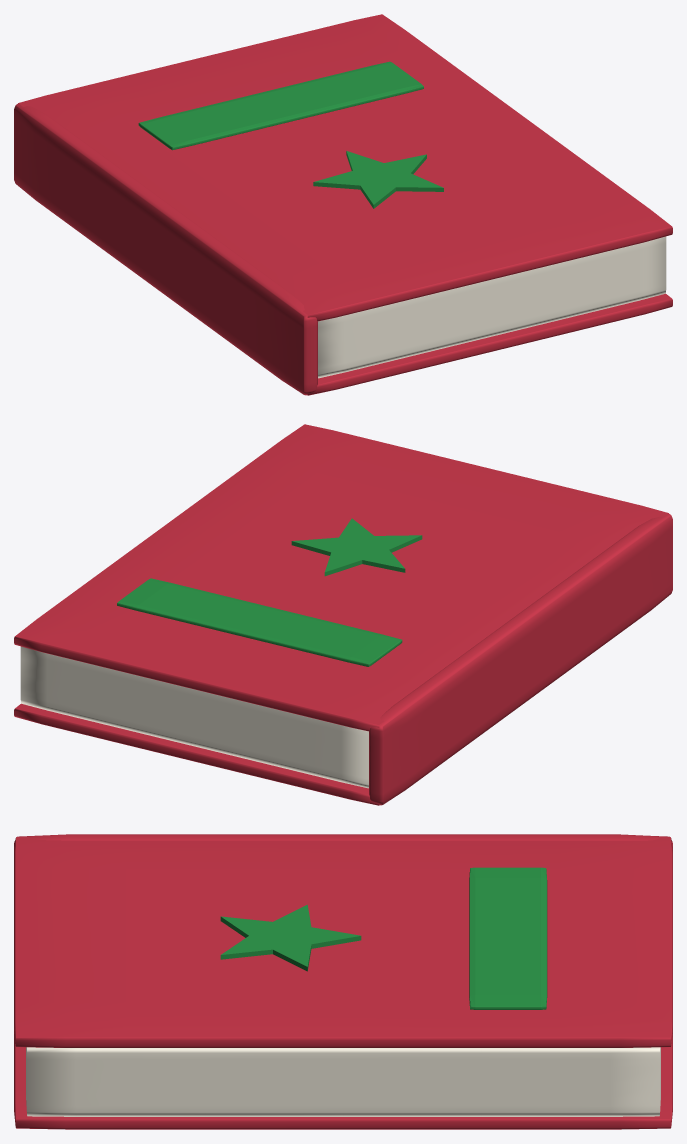
Rendered from DiceDashRuleBook.obj.
3 views of the same model, one above another, from view 1: azimuth 30°, elevation 25°; view 2: azimuth 150°, elevation 25°; view 3: azimuth 270°, elevation 25° (orthographic). The views are drawn at different scales.
Visible parts, largest first — view 1: Cover, Pages, Band; view 2: Cover, Pages, Band; view 3: Cover, Pages, Band.
Boxes of the visible parts, x1,y1,x2,y2 form: Cover: (14, 14, 672, 395); Pages: (318, 236, 666, 378); Band: (138, 61, 443, 208); Cover: (14, 424, 672, 805); Pages: (20, 646, 368, 788); Band: (117, 518, 422, 666); Cover: (14, 834, 672, 1129); Pages: (26, 1047, 660, 1116); Band: (220, 867, 547, 1009).
Bounding box in the file's own units: 16.2 × 3.67 × 22.
